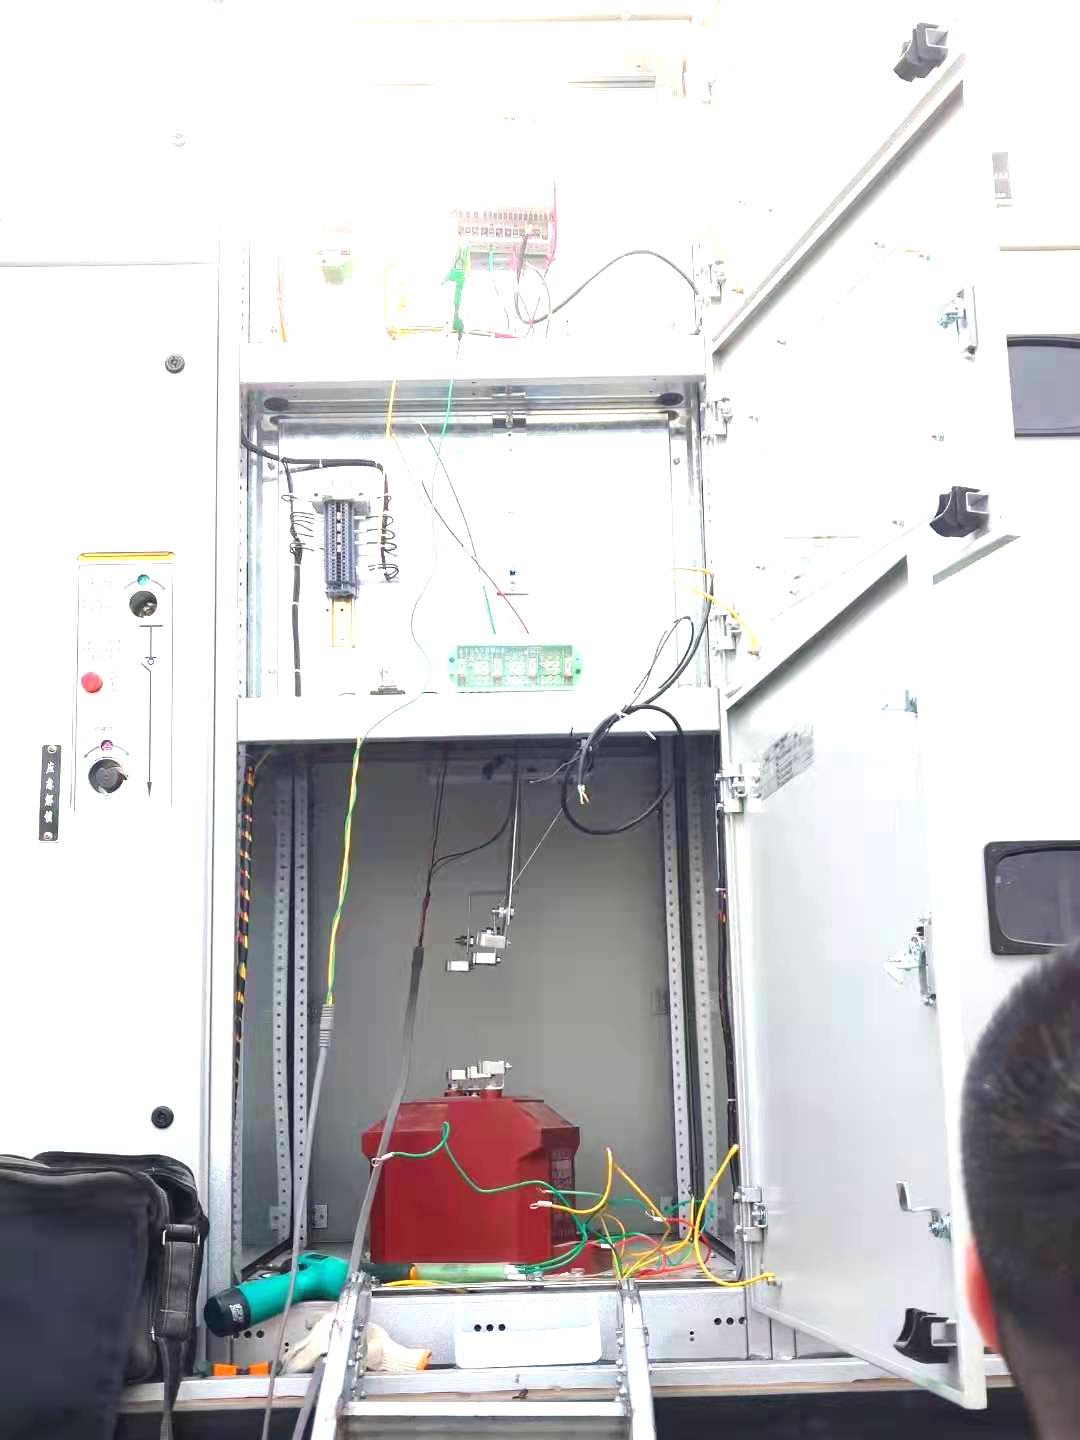digital: (446, 79, 552, 215)
